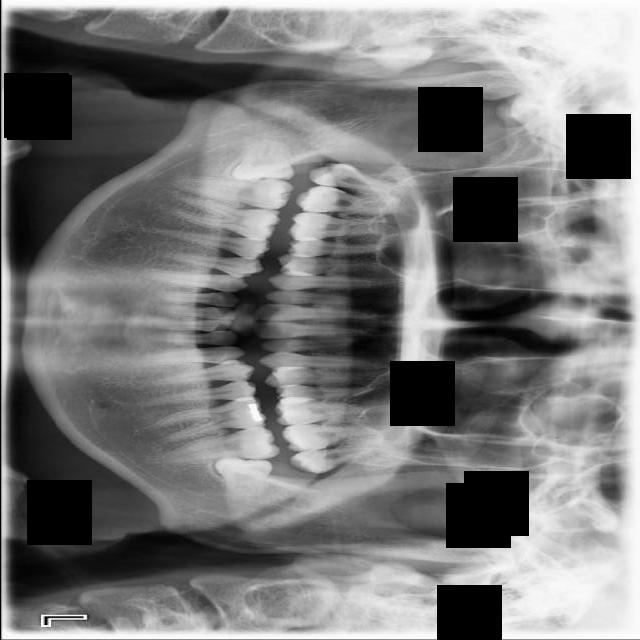3M ESPE Implant: (307, 159, 405, 196)
52: (218, 392, 268, 438)
73: (86, 601, 92, 604)
BioHorizons Implant: (282, 423, 396, 452)
BioLife Implant: (288, 442, 397, 476)
Biomet 3i Implant: (213, 455, 272, 498)
Blue Sky Bio Implant: (164, 425, 280, 464)
Caries: (294, 184, 407, 216)
Implant: (175, 177, 293, 210)
Keystone Dental Implant: (230, 137, 294, 183)
